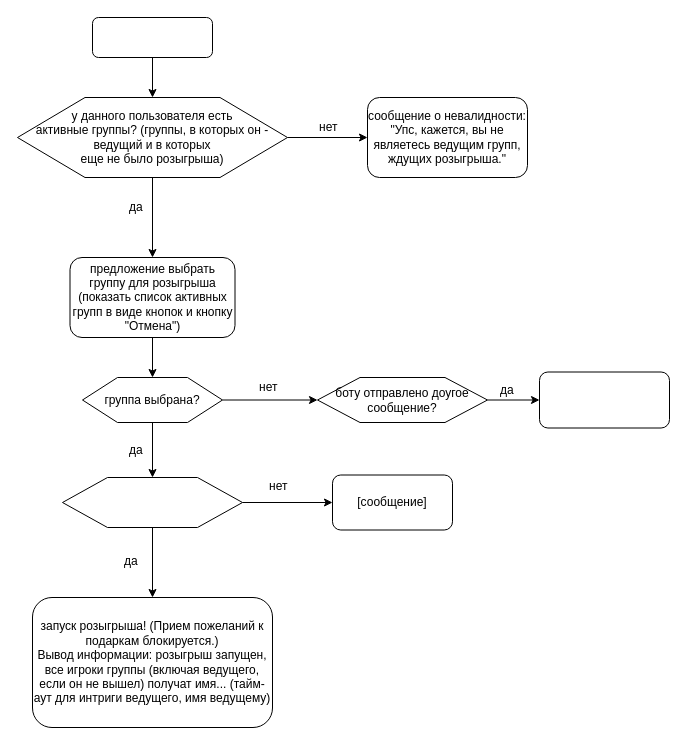
This 687x745 diagram has some shape labels left out. Here are the shapes that lost their labels. From the top down, the box of each, then its label:
(92, 16, 212, 58): /rungame
(538, 371, 670, 428): сообщение: "Завершите выбор"
(62, 476, 242, 528): подтверждение: запускаем розыгрыш?
